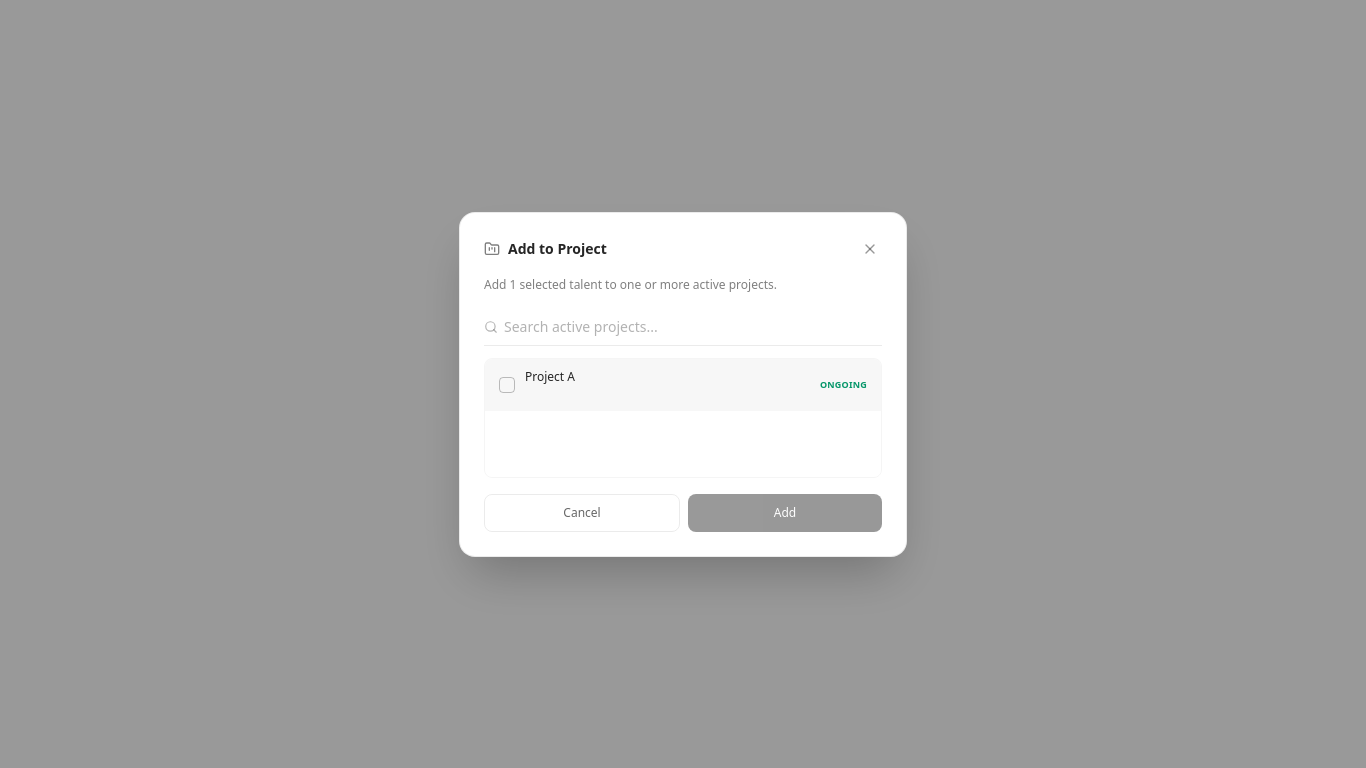
Scenario: AddToProjectModal — template picker (new behaviour) › loads the existing WhatsApp templates via GET /whatsapp/templates when the picker opens
Click the button with test id "add-to-project-option-proj-a": click(550, 376) [485, 358, 881, 410]
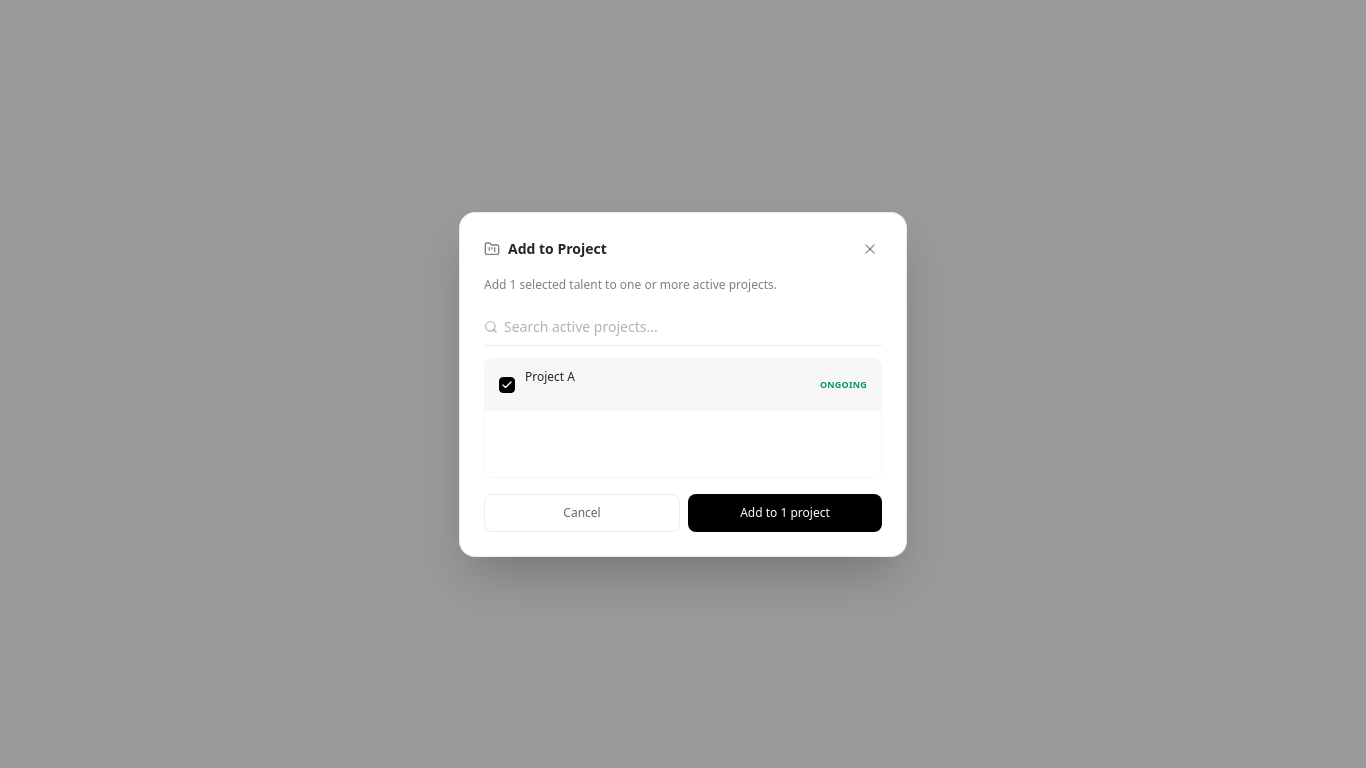
Click the button with test id "add-to-project-submit": click(785, 512) [688, 494, 882, 532]
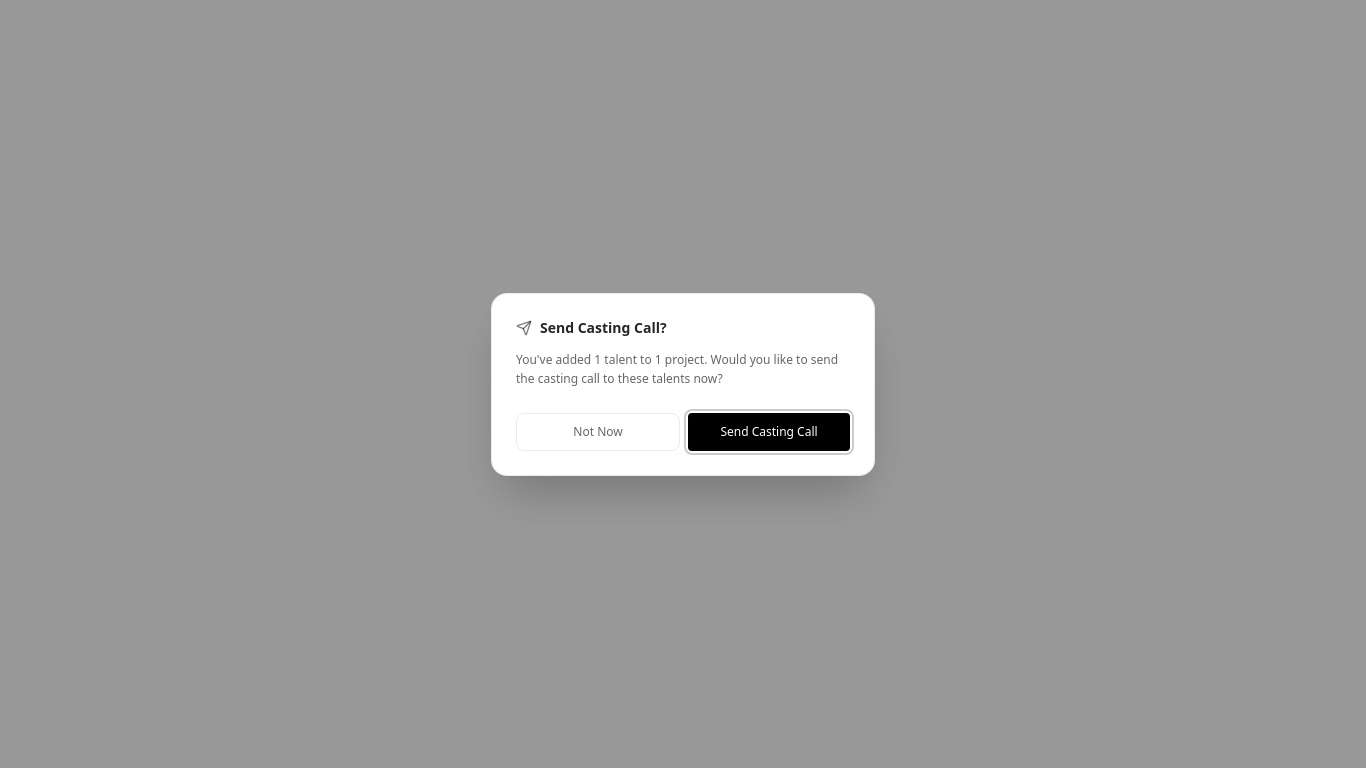
Result: the element with test id "send-casting-call-modal" is shown at [491, 292, 875, 476]
Click the button with test id "send-casting-call-confirm": click(769, 432) [688, 412, 850, 450]
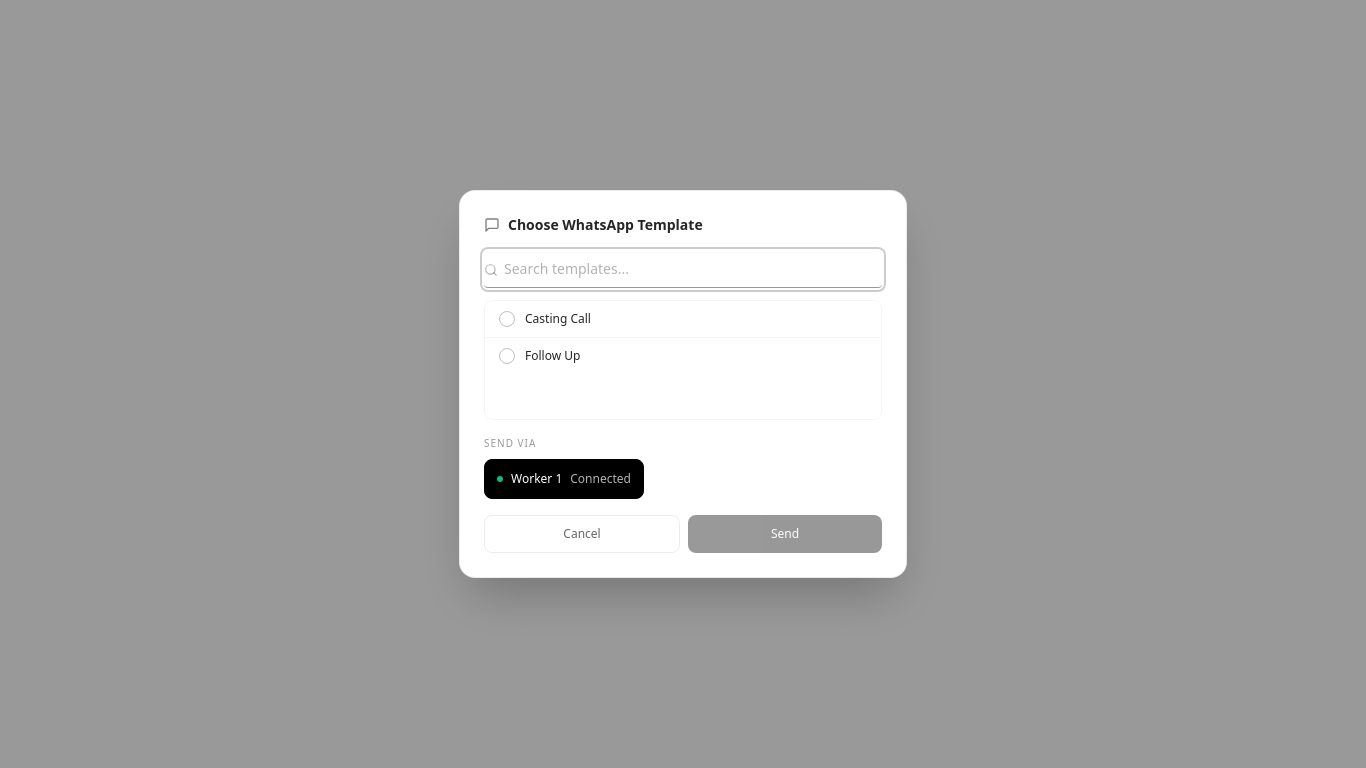
Result: the text "Casting Call" is shown at [525, 311, 591, 327]
Result: the element with test id "template-picker-modal" is shown at [459, 190, 907, 578]
Result: the text "Follow Up" is shown at [525, 348, 580, 364]
